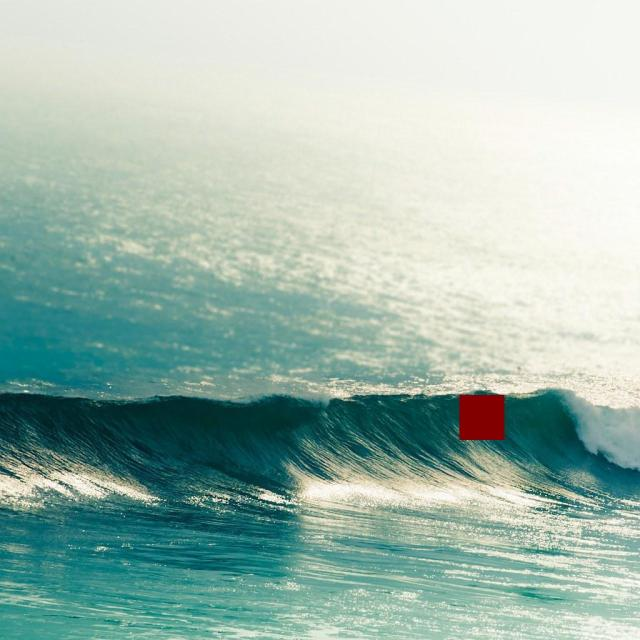RedSquare: (451, 387, 513, 447)
